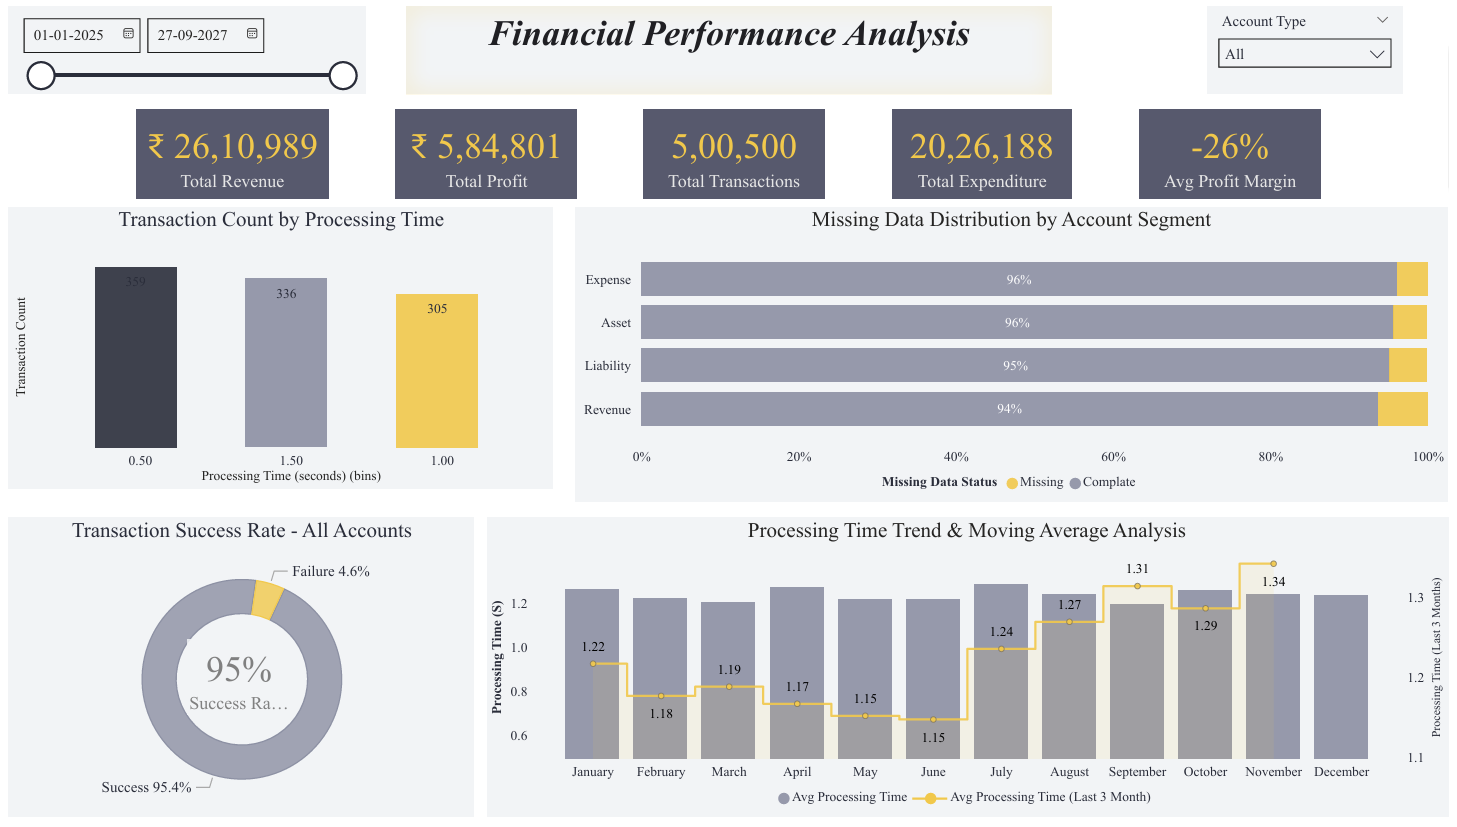

What the dashboard file says about the page in this screenshot:
{"tool":"powerbi","page":{"name":"DATA QUALITY","canvas":[1280,720],"ordinal":3},"visuals":[{"type":"slicer","fields":{"Values":["accounting_data.Account Type"]},"box":[1065.1,0,173.9,78.4],"z":0,"group":"g2"},{"type":"card","fields":{"Values":["accounting_data.Total Revenue"]},"box":[113.2,90.8,171.2,79.6],"z":0,"group":"g1"},{"type":"slicer","fields":{"Values":["accounting_data.Date"]},"box":[0,0,317.9,78.4],"z":1000,"group":"g2"},{"type":"card","fields":{"Values":["accounting_data.Total Profit"]},"box":[344.3,90.8,160.4,79.6],"z":1000,"group":"g1"},{"type":"textbox","box":[352.8,0,574.4,78.4],"z":2000,"group":"g2"},{"type":"card","fields":{"Values":["accounting_data.Total Transactions"]},"box":[564.7,90.8,160.4,79.6],"z":2000,"group":"g1"},{"type":"lineClusteredColumnComboChart","title":"Processing Time Trend & Moving Average Analysis","fields":{"Category":["accounting_data.Date.Variation.Date Hierarchy.Year","accounting_data.Date.Variation.Date Hierarchy.Month"],"Y":["accounting_data.Avg Processing Time"],"Y2":["accounting_data.Processing Time MA (3M)"]},"box":[425,453.8,855,266.2],"z":2000},{"type":"card","fields":{"Values":["accounting_data.Total Expenditure"]},"box":[785,90.8,160.4,79.6],"z":3000,"group":"g1"},{"type":"hundredPercentStackedBarChart","title":"Missing Data Distribution by Account Segment","fields":{"Category":["accounting_data.Account Type"],"Series":["accounting_data.Missing Data Status"],"Y":["accounting_data.Total Records"]},"box":[503.8,177.5,776.2,262.5],"z":3000},{"type":"group","id":"g1","title":"KPI's","box":[113.2,90.8,1053.6,79.6],"z":4000},{"type":"card","fields":{"Values":["accounting_data.Avg Profit Margin"]},"box":[1005.4,90.8,160.4,79.6],"z":4000,"group":"g1"},{"type":"clusteredColumnChart","title":"Transaction Count by Processing Time","fields":{"Category":["accounting_data.Processing Time (seconds) (bins)"],"Y":["accounting_data.Transaction Count"]},"box":[0,177.5,483.8,250],"z":5000},{"type":"group","id":"g2","title":"Title + Slicer","box":[0,0,1238.9,78.4],"z":6500},{"type":"donutChart","fields":{"Category":["accounting_data.Outcome Label"],"Y":["accounting_data.Total Transactions"]},"box":[0,453.8,413.8,266.2],"z":8000},{"type":"card","fields":{"Values":["accounting_data.Success Rate %"]},"box":[158.8,562.4,91.2,67.1],"z":8500}]}

Visuals, with their boxes in screenshot pixels (x1, y1, x2, y2), scaled from the page's 1280x720 canvas onto the 1457x827 screenshot:
slicer - accounting_data.Account Type: [1212,0,1410,90]
card - accounting_data.Total Revenue: [129,104,324,196]
slicer - accounting_data.Date: [0,0,362,90]
card - accounting_data.Total Profit: [392,104,574,196]
textbox: [402,0,1055,90]
card - accounting_data.Total Transactions: [643,104,825,196]
"Processing Time Trend & Moving Average Analysis" lineClusteredColumnComboChart: [484,521,1456,826]
card - accounting_data.Total Expenditure: [894,104,1076,196]
"Missing Data Distribution by Account Segment" hundredPercentStackedBarChart: [573,204,1456,505]
"KPI's" group: [129,104,1328,196]
card - accounting_data.Avg Profit Margin: [1144,104,1327,196]
"Transaction Count by Processing Time" clusteredColumnChart: [0,204,551,491]
"Title + Slicer" group: [0,0,1410,90]
donutChart - accounting_data.Outcome Label x accounting_data.Total Transactions: [0,521,471,826]
card - accounting_data.Success Rate %: [181,646,285,723]
